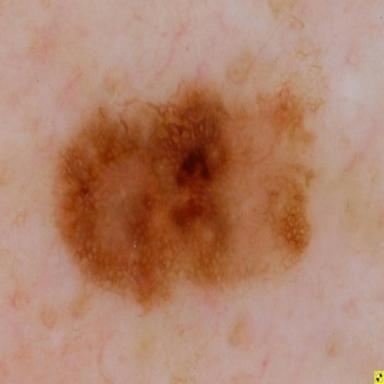nevus: (57, 83, 315, 308)
